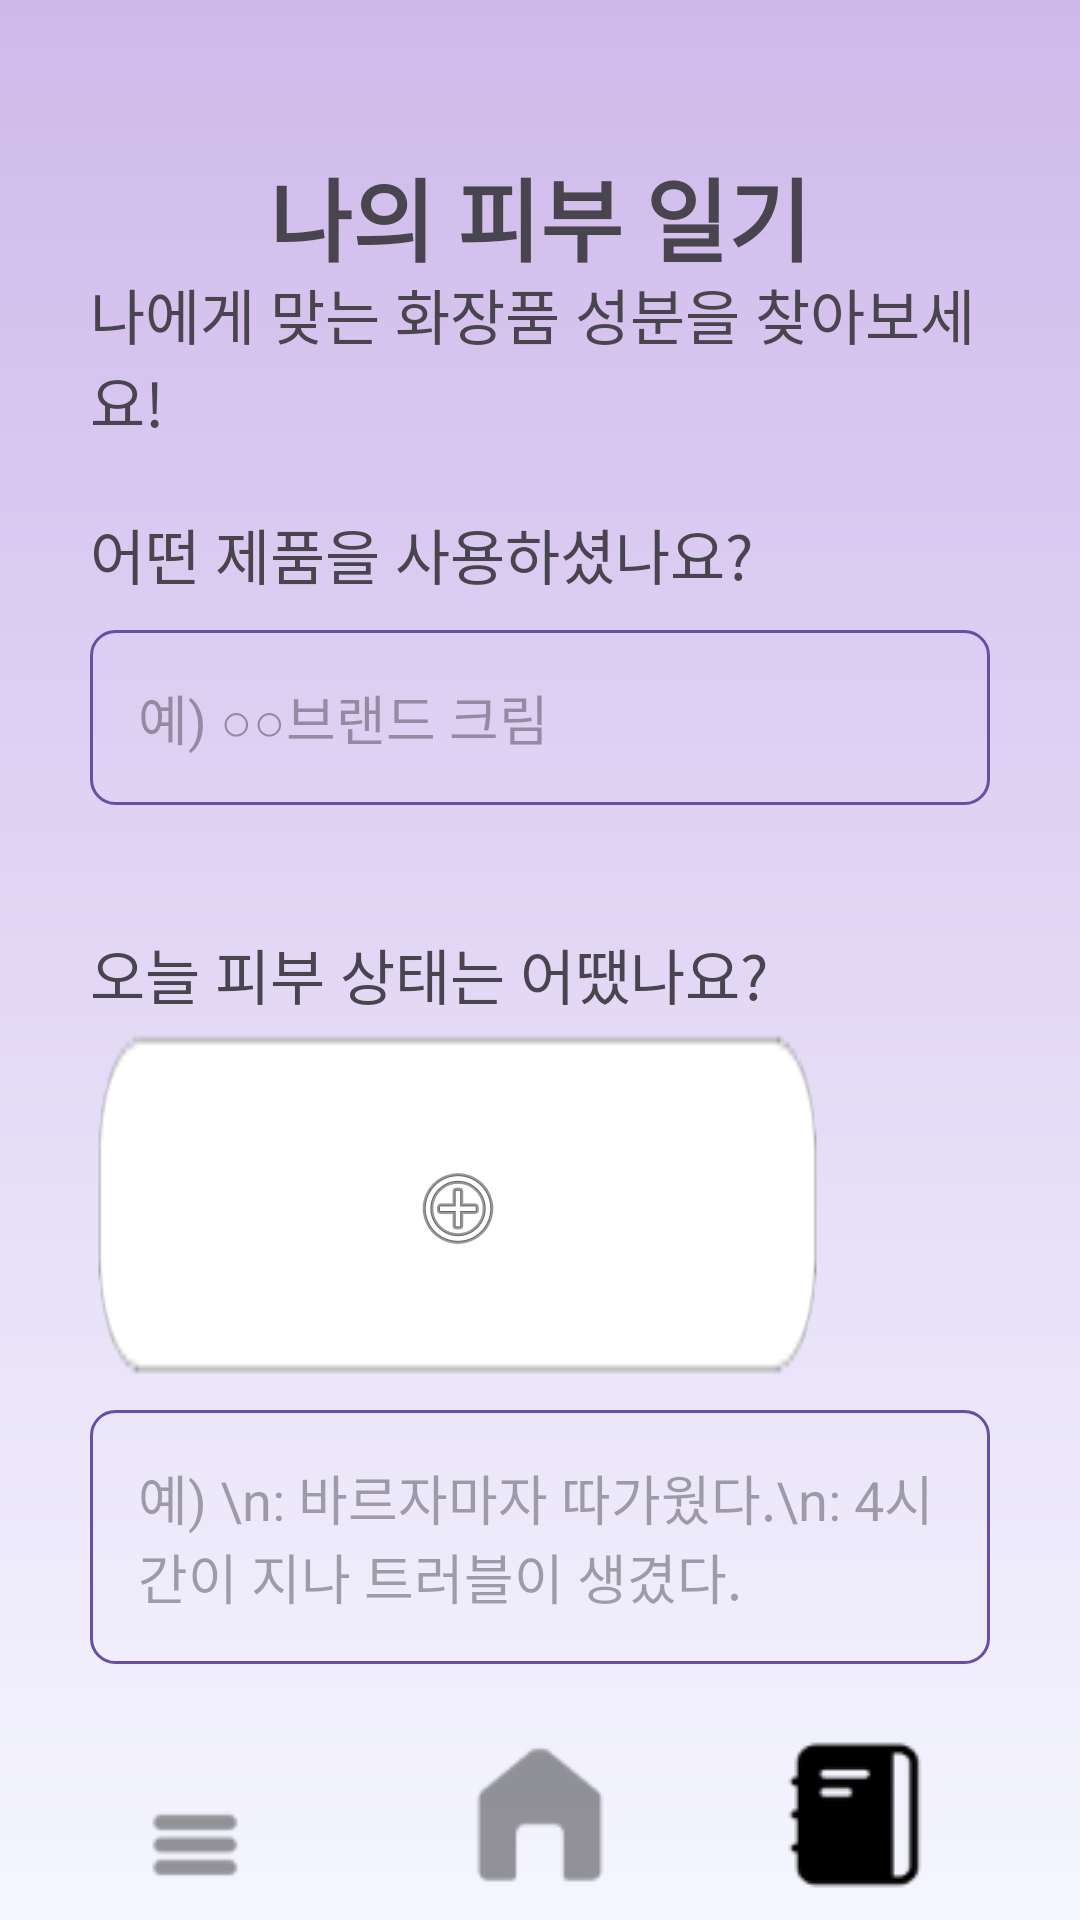

Screen size 1080 × 1920. Icon name, then its center in pixels as [x,y]:
category: [195,1845]
diary: [855,1814]
home: [539,1815]
